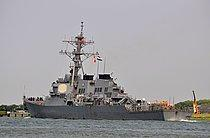MIL_Ship: (22, 21, 196, 122)
